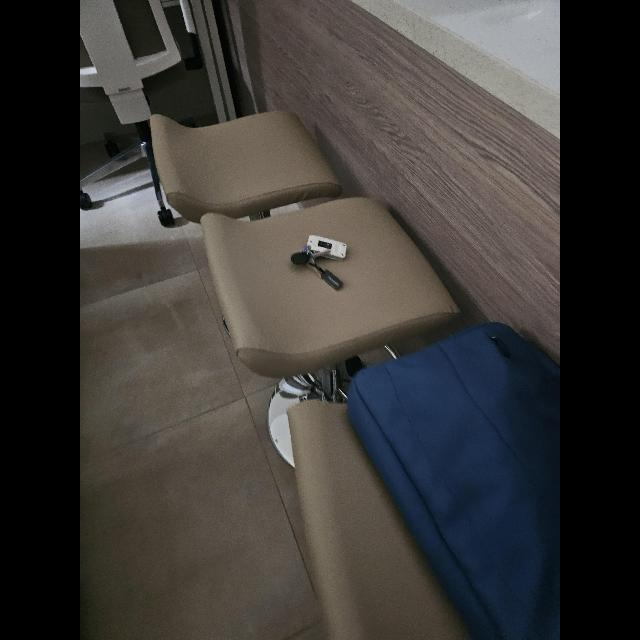Keys: (286, 236, 348, 296)
